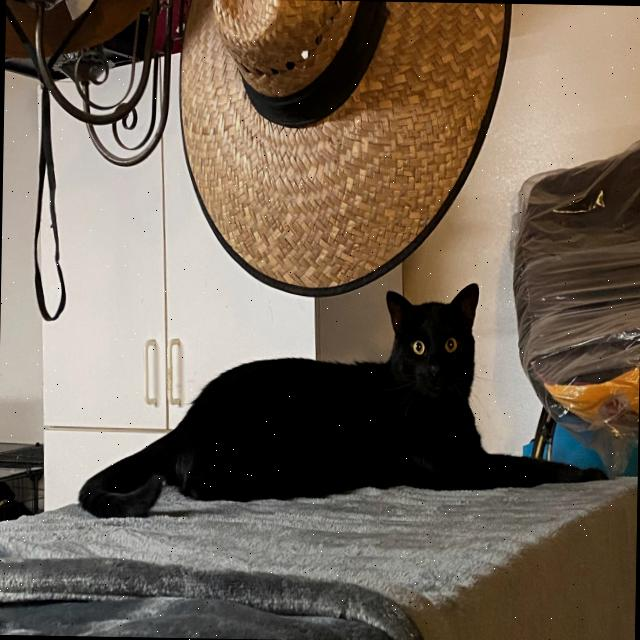bombay_cat: (380, 278, 484, 421)
